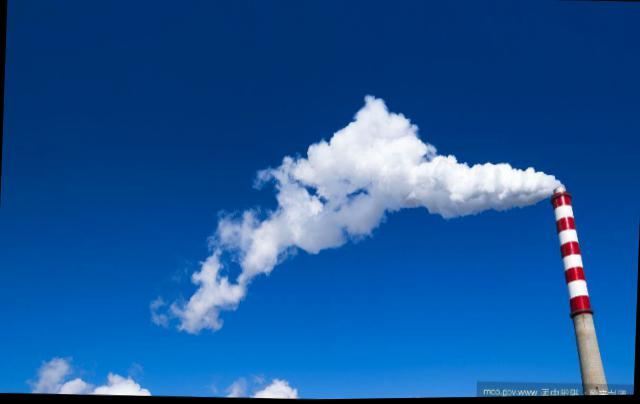smoke: (344, 119, 404, 208), (296, 149, 342, 246), (424, 173, 550, 202), (242, 219, 284, 273), (187, 281, 228, 324), (433, 202, 464, 215)
